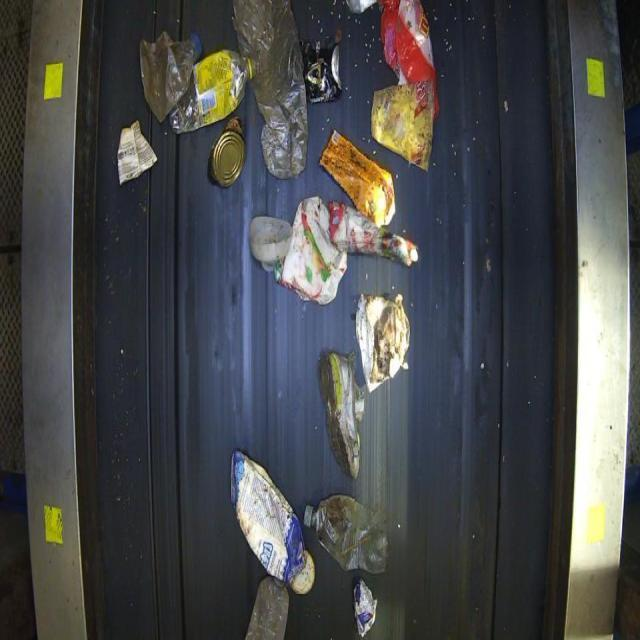trashbin: (19, 0, 633, 639)
